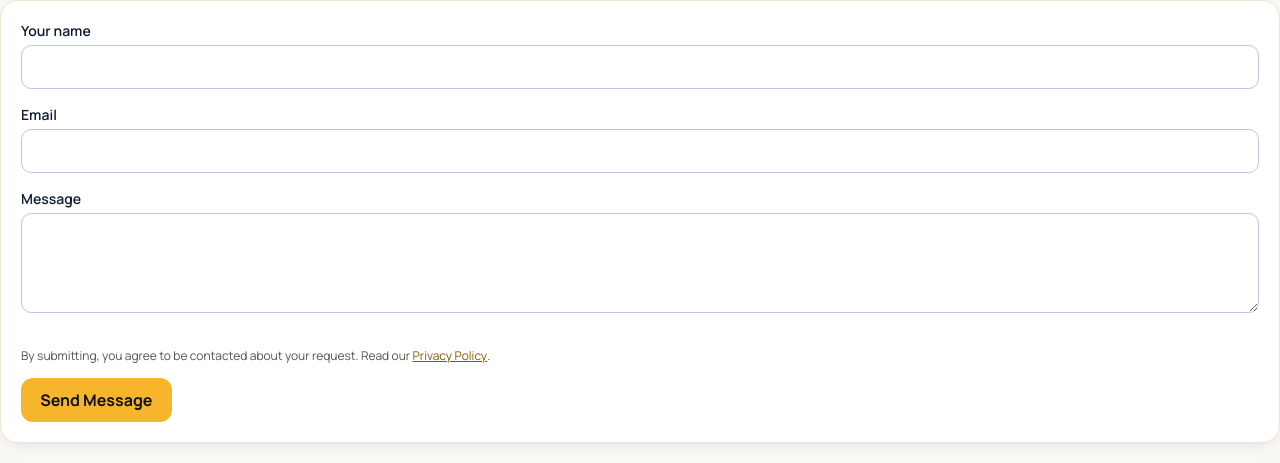
Test case: does not mirror requests rejected by the database API
Type "QA Customer" into the field labelled "Your name".
click(640, 67); type("QA Customer")  # box top-left (21, 45), bottom-right (1259, 89)
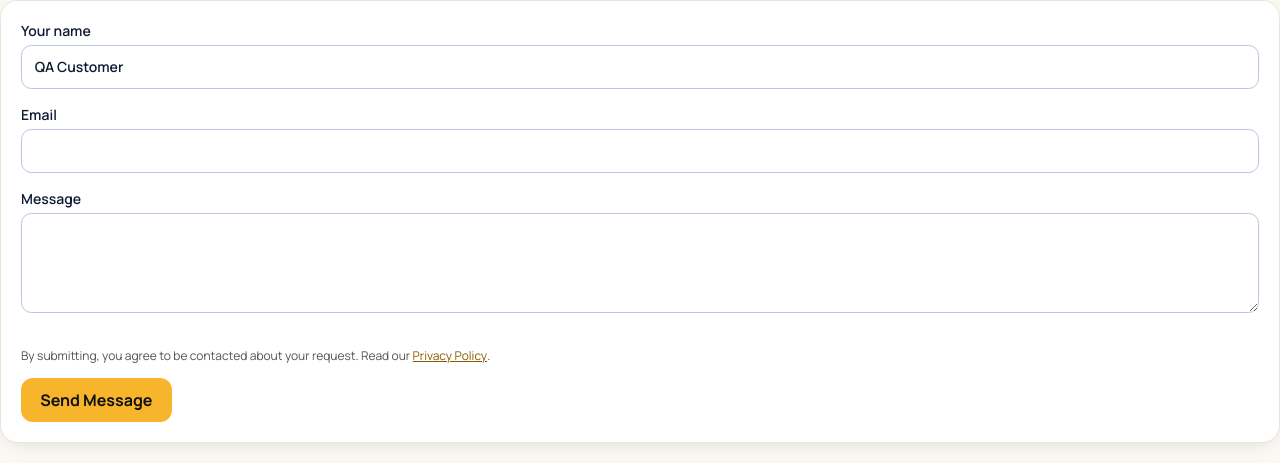
Type "qa@example.ph" into the field labelled "Email".
click(640, 151); type("qa@example.ph")  # box top-left (21, 129), bottom-right (1259, 173)
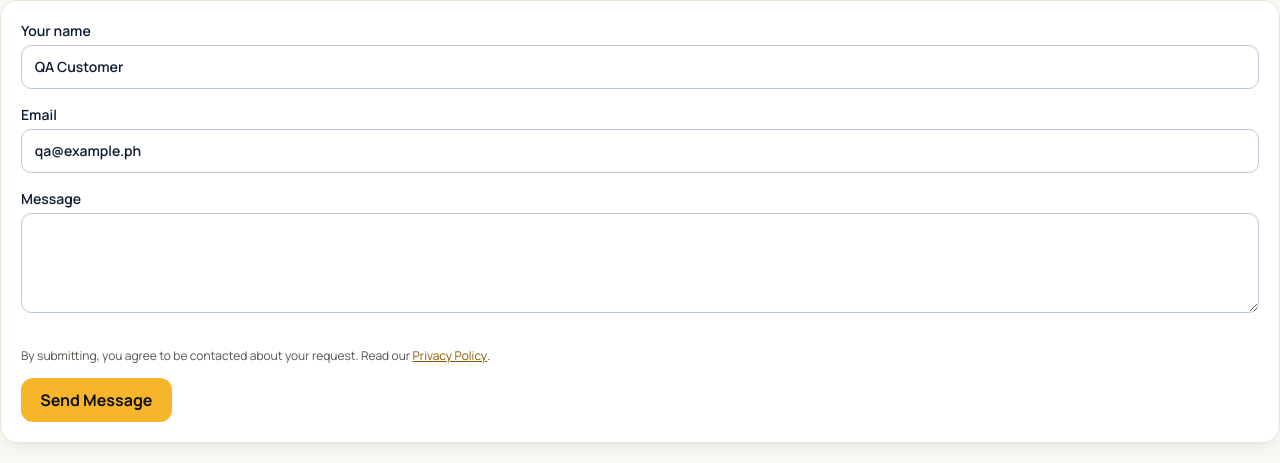
Type "Please check repair availability." into the text box labelled "Message".
click(640, 263); type("Please check repair availability.")  # box top-left (21, 213), bottom-right (1259, 313)
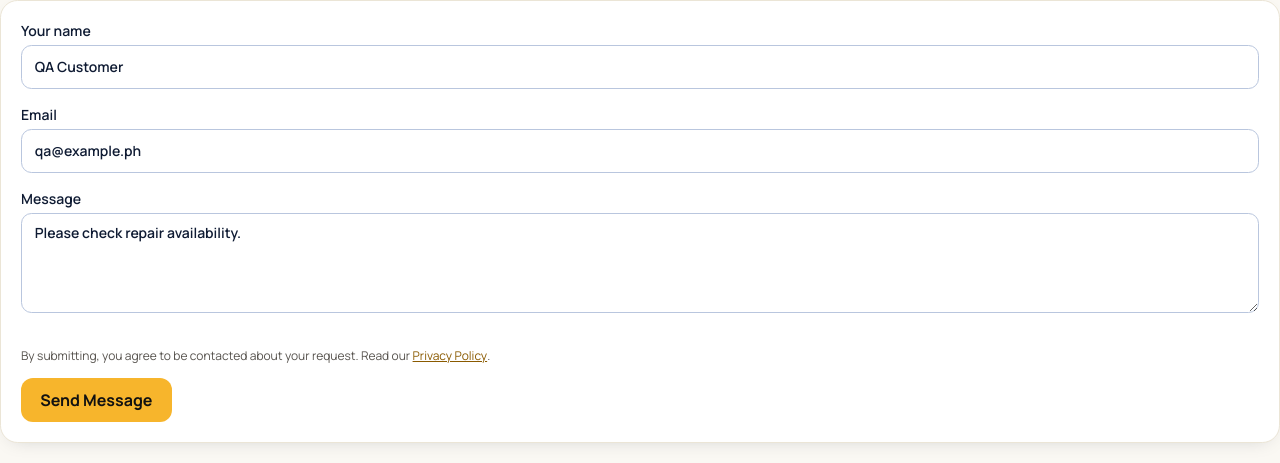
Click the button "Send Message".
click(96, 400)  # box top-left (21, 378), bottom-right (172, 422)
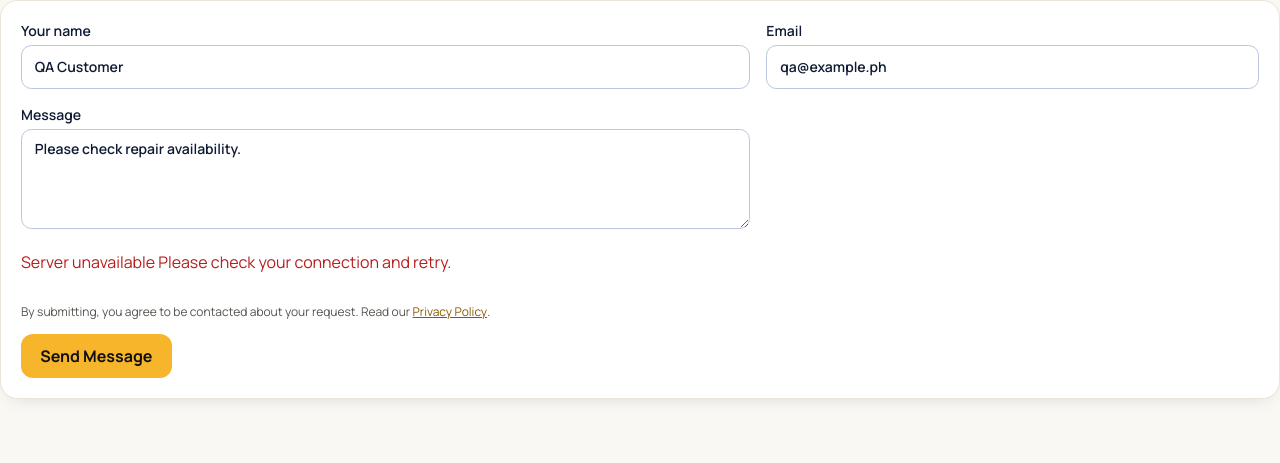
Check: the message "Server unavailable Please check your connection and retry." is shown, box top-left (21, 251), bottom-right (451, 273)
